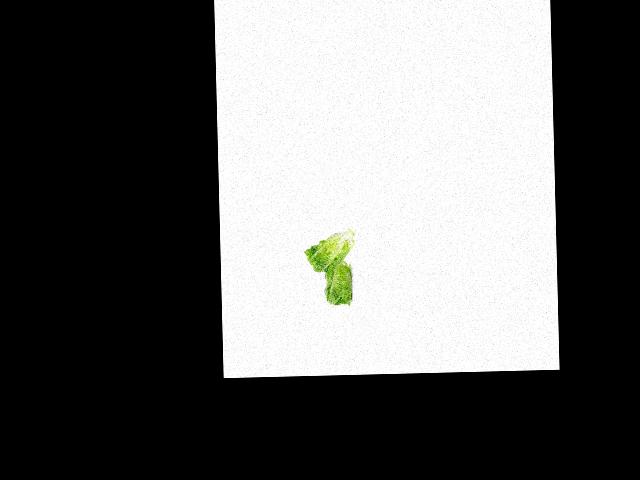lettuce: (305, 227, 359, 278)
